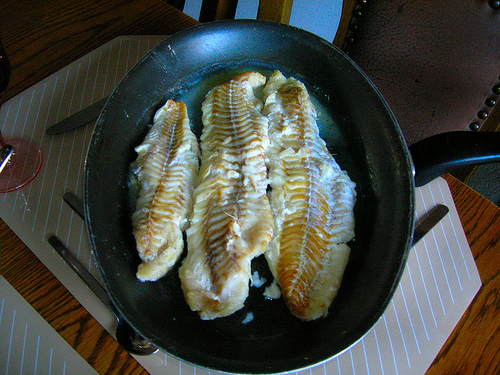fish: (260, 68, 359, 323), (179, 71, 276, 322), (127, 100, 202, 283)
